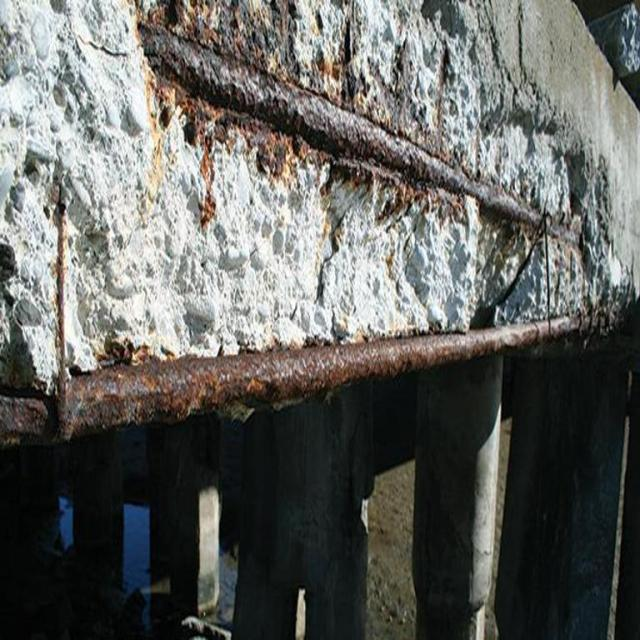spalling: (0, 0, 633, 399)
